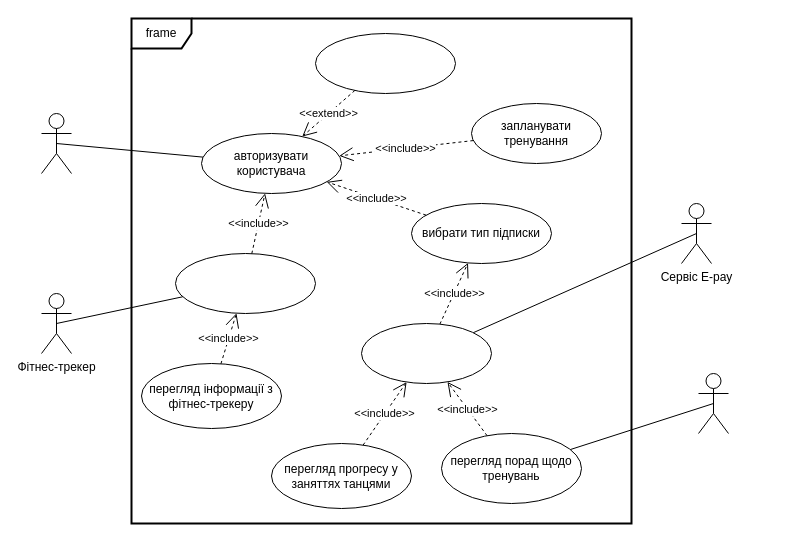
The diagram is 792 pixels wide and 541 high, and some of its shapes have lost their labels. Each missing label, with the centre of its shape:
АРІ для пошуку порад: (713,403)
Користувач: (56,143)
оплатити підписку: (426,353)
перегляд інформації щодо шуму: (385,63)
підключити фітнес-трекер до застосунку: (245,283)
